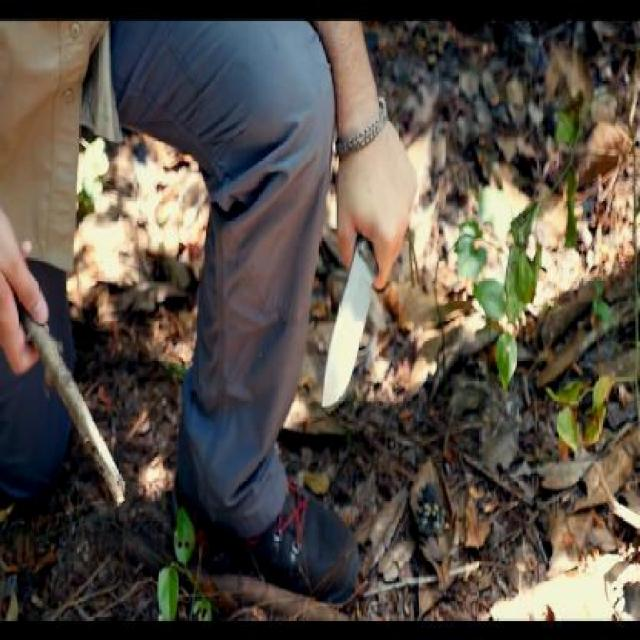knife: (315, 174, 420, 420)
